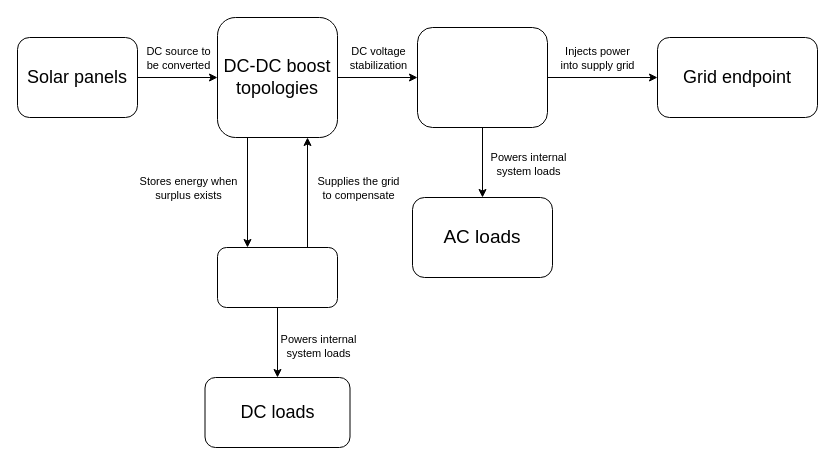
Image size: 835x465. Some labels were removed from this diagram. Here are the shapes that lost their labels. From the top down, the centre of each, then its label:
At (x=482, y=77): "Inverter topologies".
At (x=277, y=277): "Energy storage".
